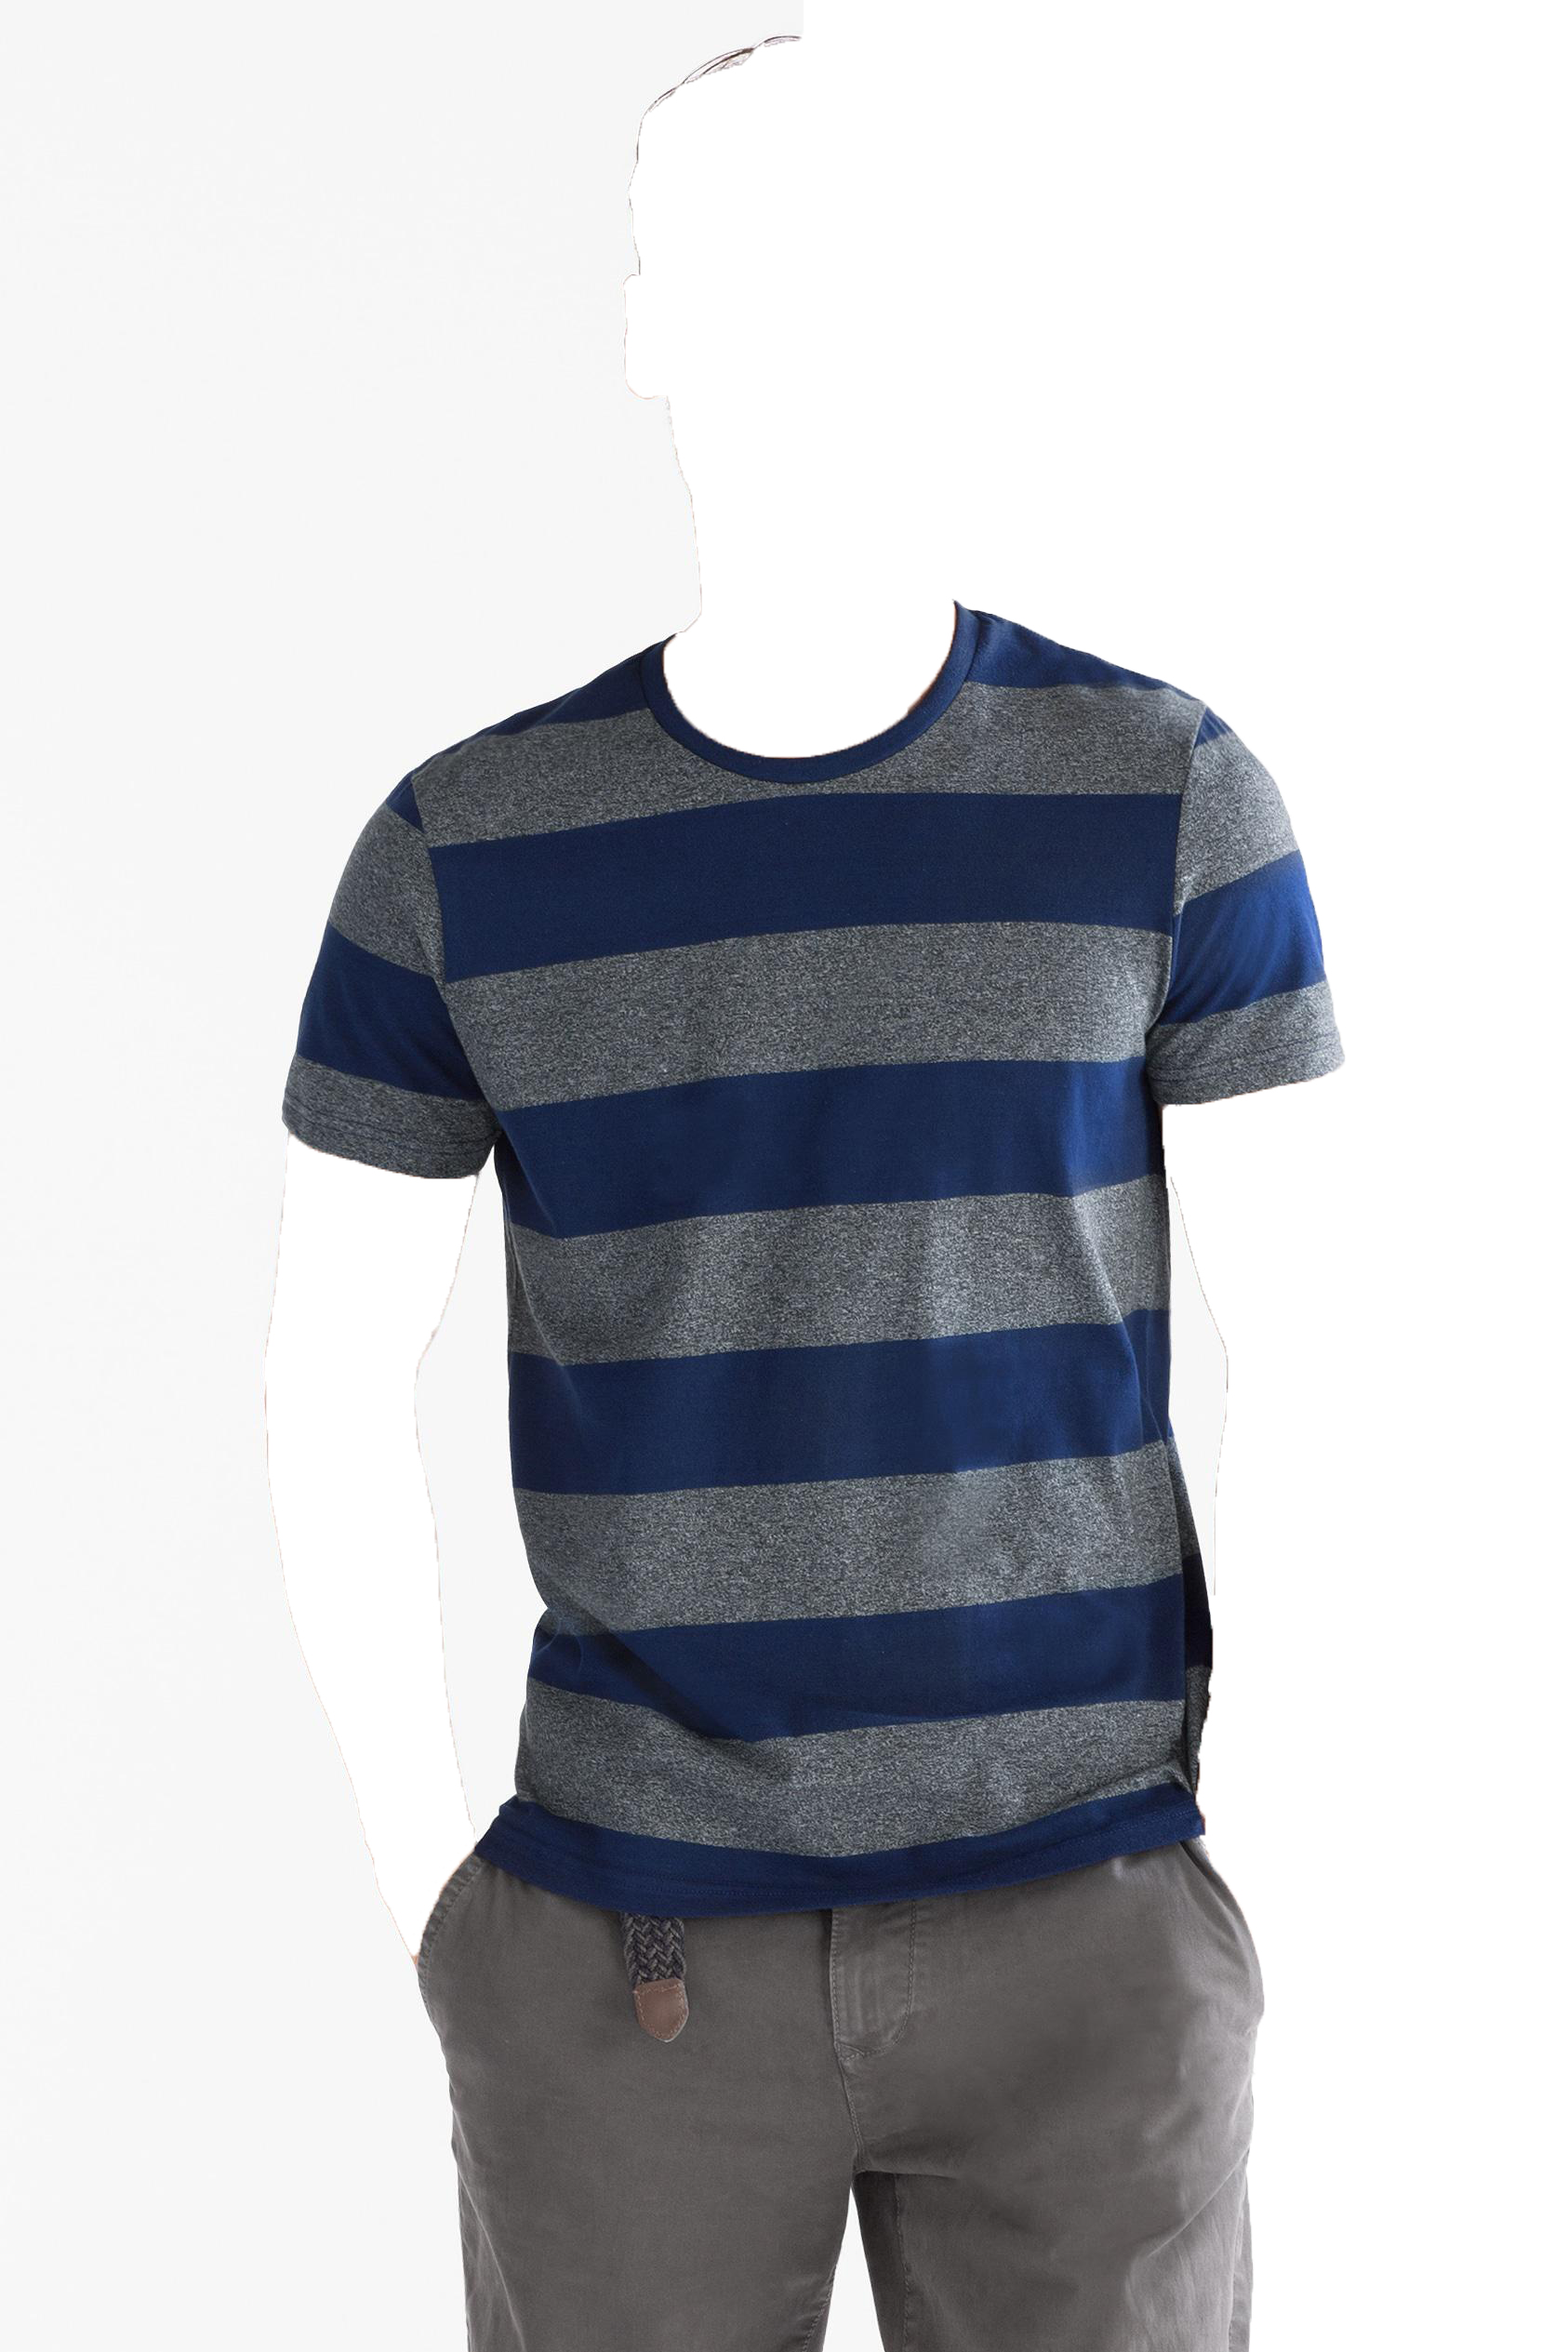teeshirt: (259, 614, 1386, 1872)
